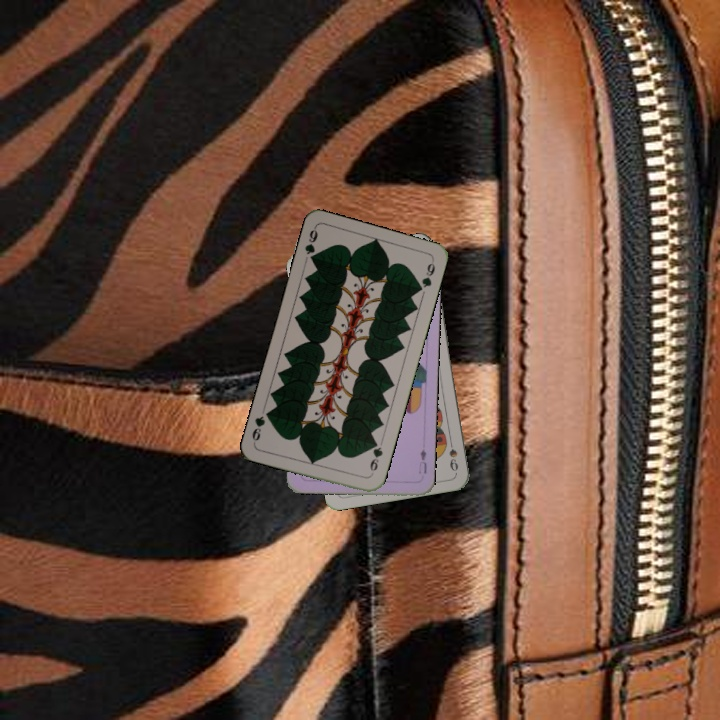EU: (414, 445, 429, 476)
G9: (366, 437, 385, 478), (301, 224, 320, 265)
S9: (445, 434, 461, 473)
